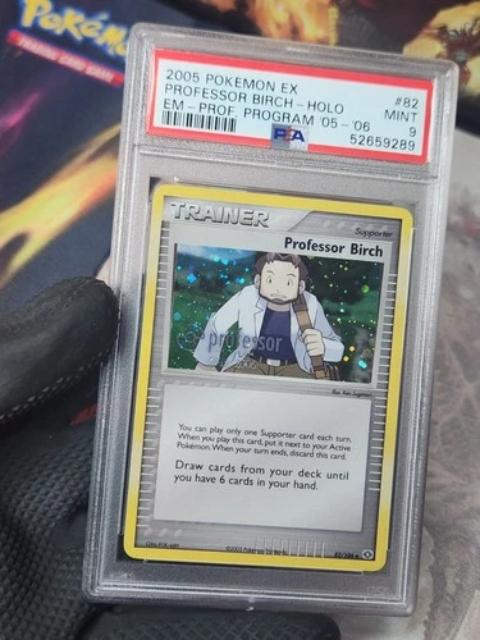Card: (120, 181, 416, 578)
Name: (279, 231, 393, 262)
